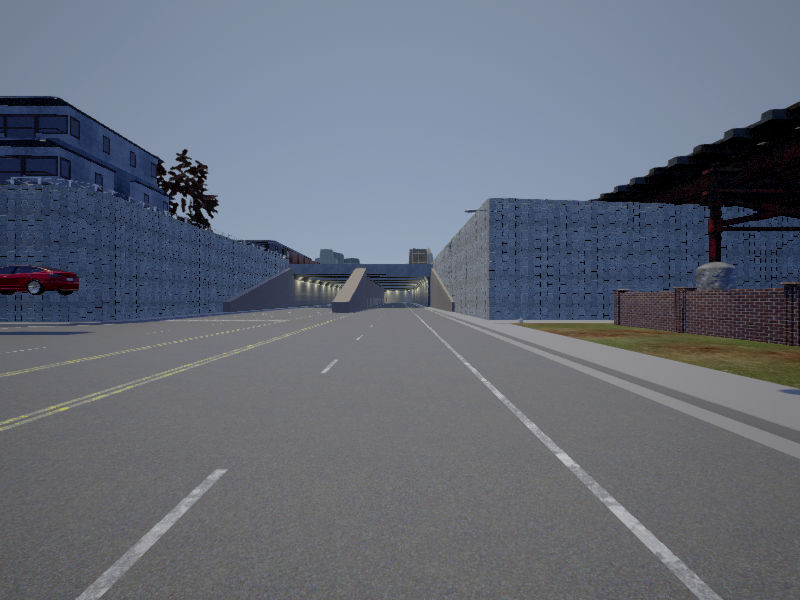Attacker: (1, 263, 80, 296)
